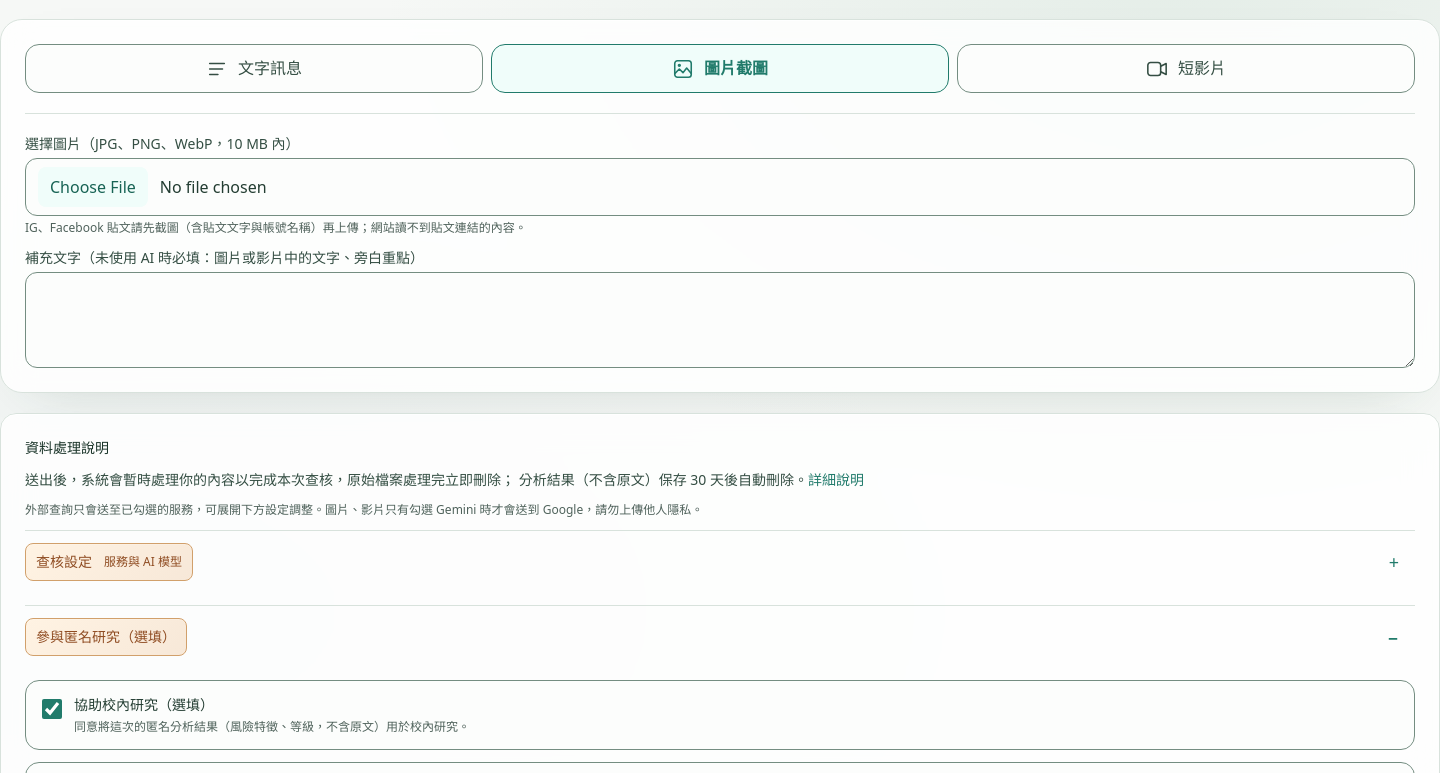
Check page › 全選：一次勾選或取消所有查詢服務，不會勾到研究同意 B、C
The image size is (1440, 773).
What coordinates should you click on to do the following:
click the heading "查核設定 服務與 AI 模型"
I would click on:
 (109, 562)
Its box is [25,543,193,581].
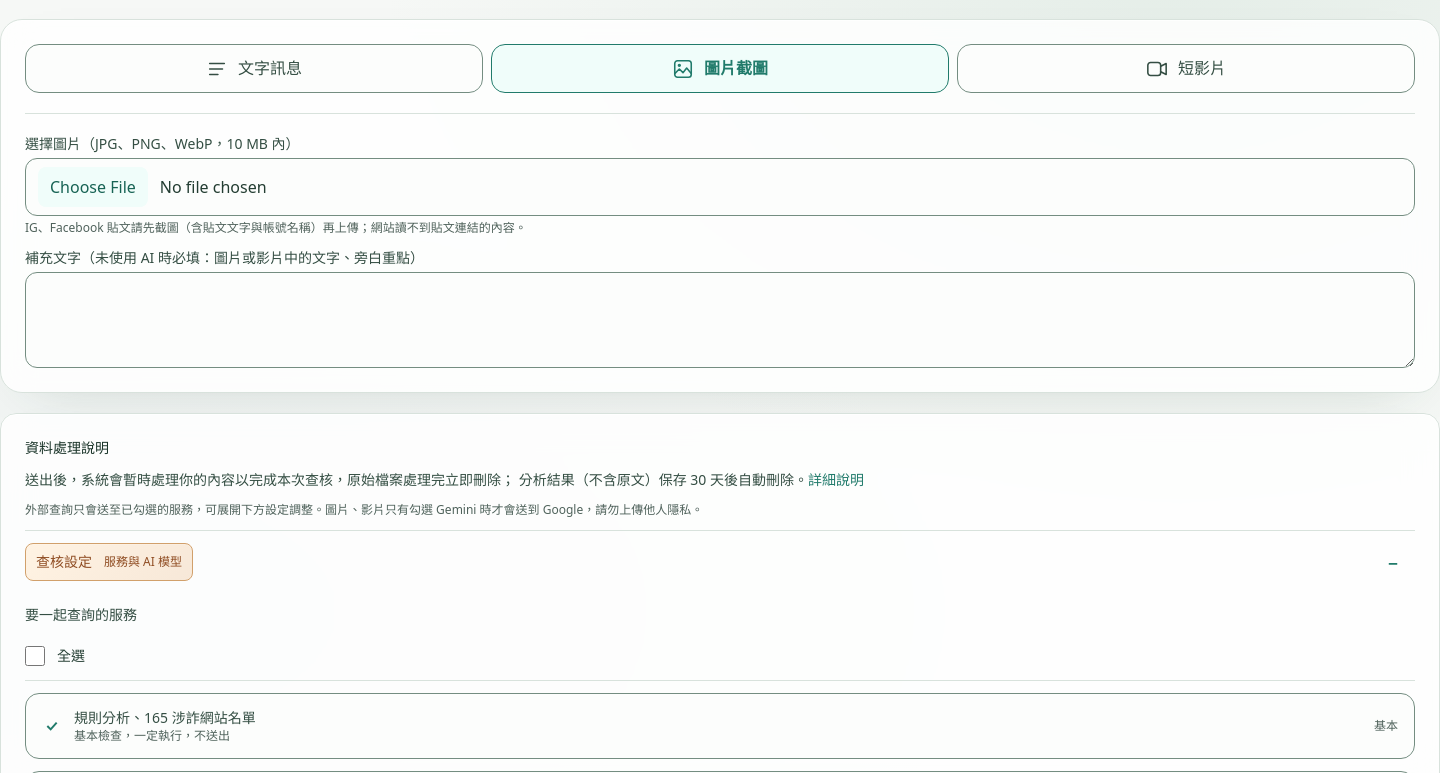
Expected: the checkbox labelled "全選" is not checked
What coordinates should you click on to do the following:
click the checkbox labelled "全選"
I would click on:
 (35, 656)
Its box is [25,646,45,666].
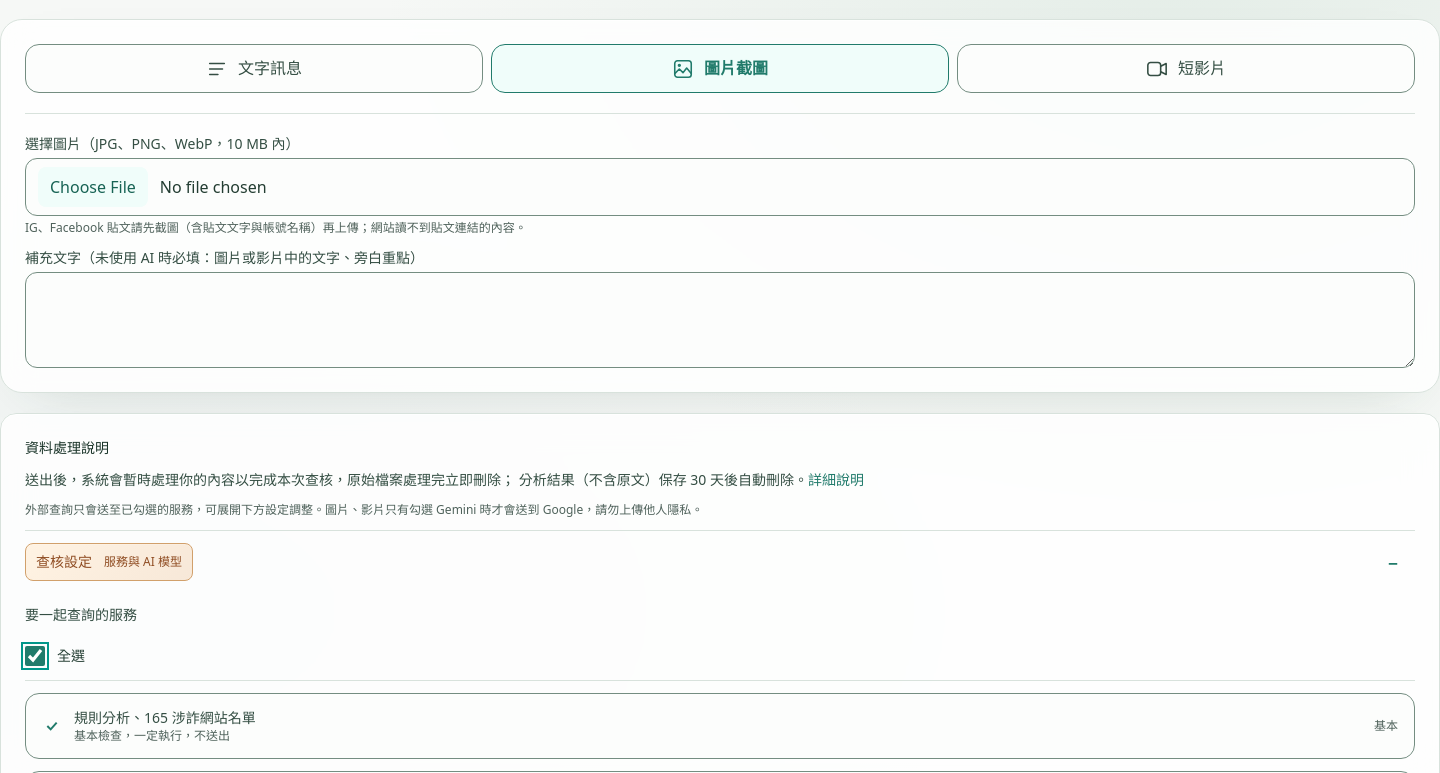
What coordinates should you click on to do the following:
click the checkbox labelled "全選"
I would click on:
 (35, 656)
Its box is [25,646,45,666].
(page scrolled)
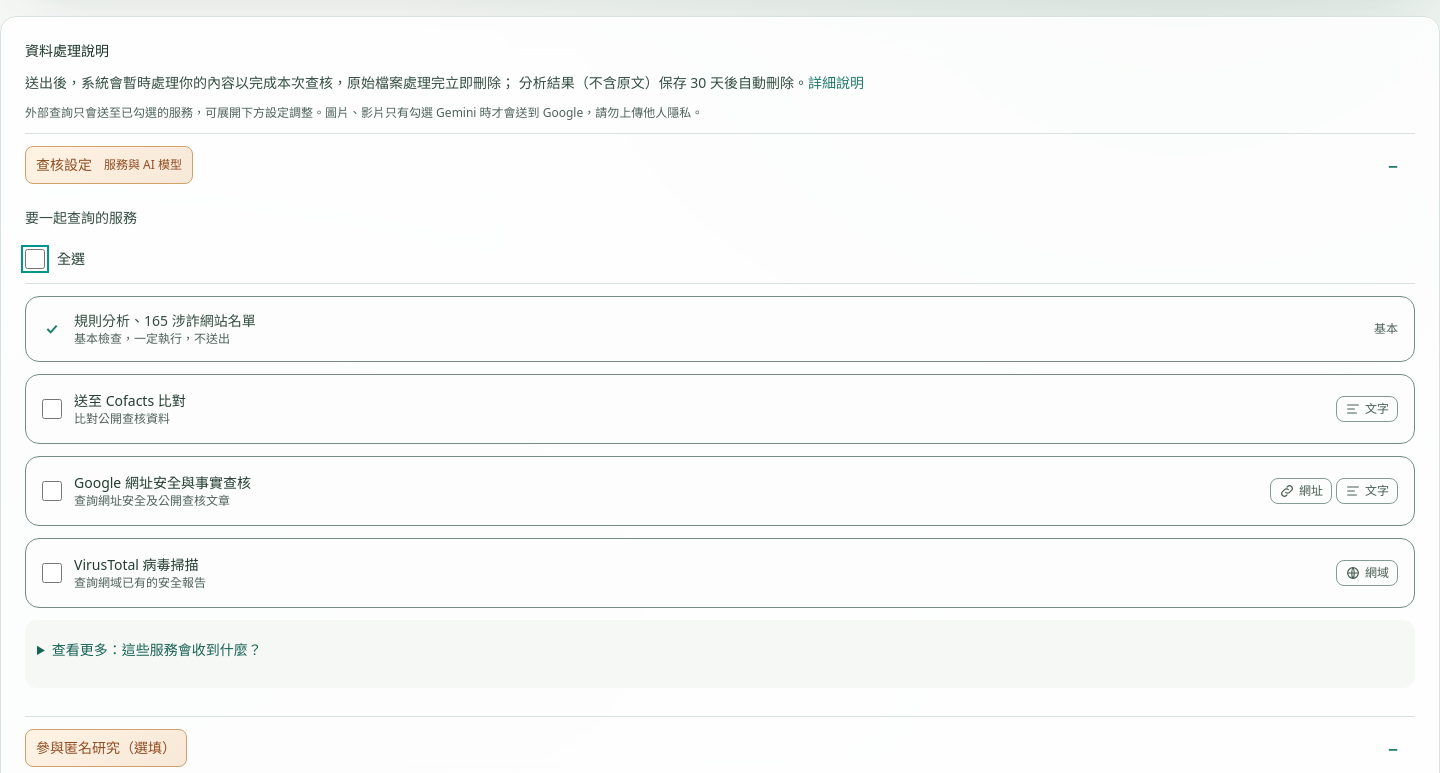
Expected: the checkbox labelled "VirusTotal 病毒掃描 查詢網域已有的安全報告" is not checked, [42,563,62,583]
Expected: the checkbox labelled "送至 Cofacts 比對 比對公開查核資料" is not checked, [42,399,62,419]
